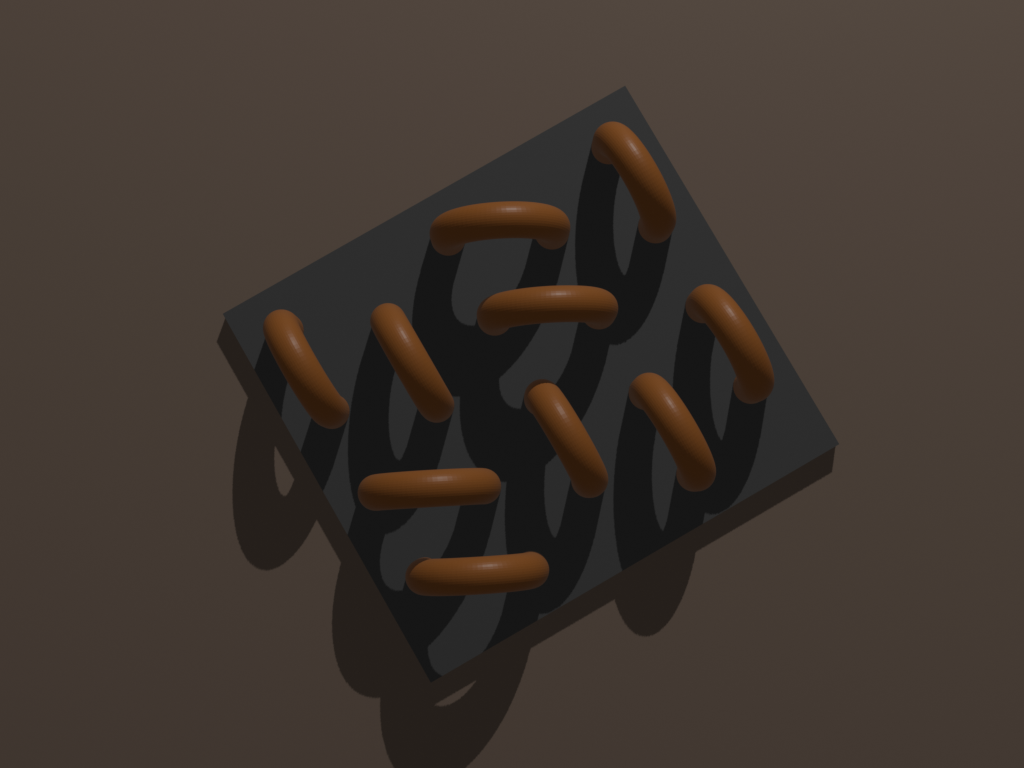return-bend: (604, 340, 742, 511), (341, 273, 479, 444), (237, 283, 375, 453), (665, 256, 802, 427), (498, 350, 635, 520), (569, 96, 706, 266), (396, 540, 561, 611), (421, 193, 586, 264), (471, 273, 636, 344), (346, 456, 511, 527)
